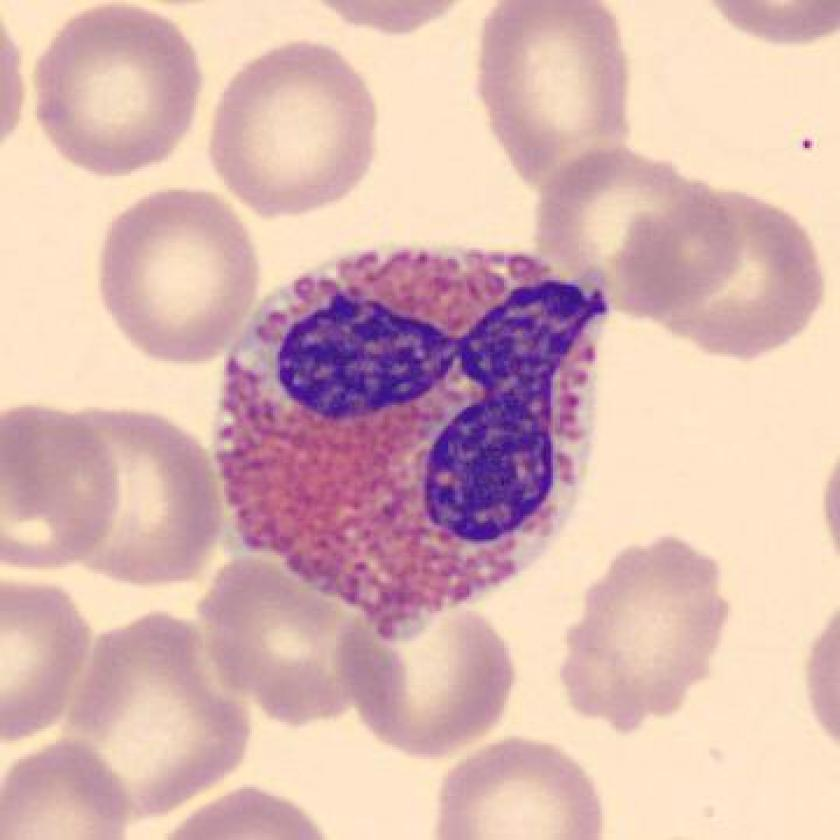eosinophil: (207, 233, 620, 652)
